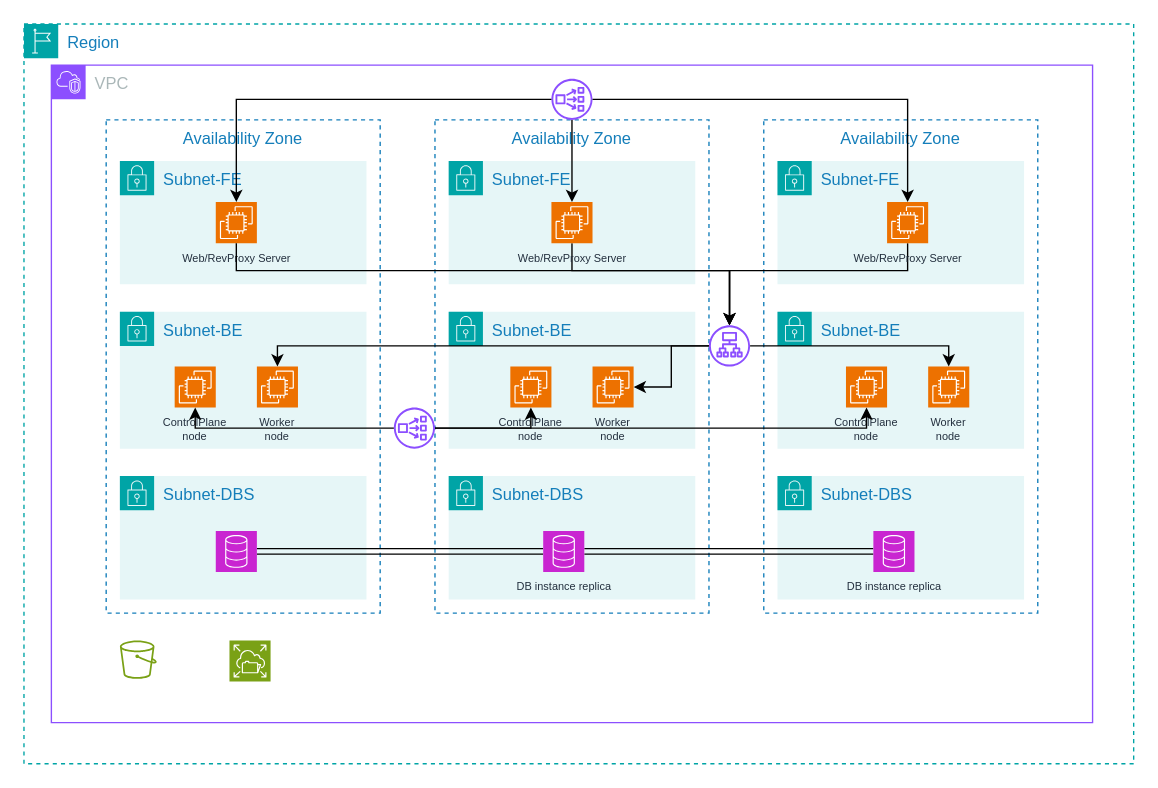
Image size: 1158x788. Some labels were removed from this diagram. The shapes that lost their labels are listed below. From the top down, each one's centre as x and y in pixels, then its label:
pixel 235 551: DB instance write
pixel 137 659: Internal Registry
pixel 249 660: Shared Filesystem
